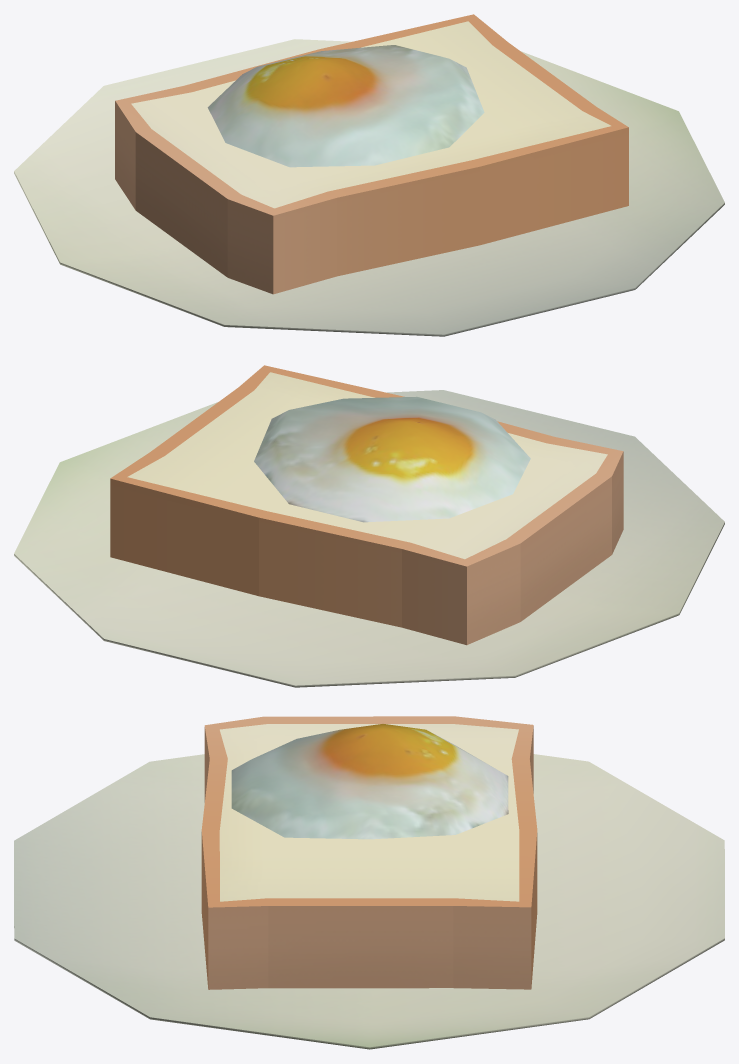
The model's file is prop_foodmenu02.fbx.
3 renders of one model, top to bottom at view 1: azimuth 30°, elevation 25°; view 2: azimuth 150°, elevation 25°; view 3: azimuth 270°, elevation 25°, orthographic. The views are drawn at different scales.
Visible parts, largest first — view 1: prop_foodmenu02; view 2: prop_foodmenu02; view 3: prop_foodmenu02.
Part boxes in pixels (x1,y1,x2,y2): prop_foodmenu02: [14, 14, 724, 336]; prop_foodmenu02: [14, 365, 724, 687]; prop_foodmenu02: [14, 716, 724, 1049].
Bounding box in the file's own units: 0.3638 × 0.0884 × 0.346.
